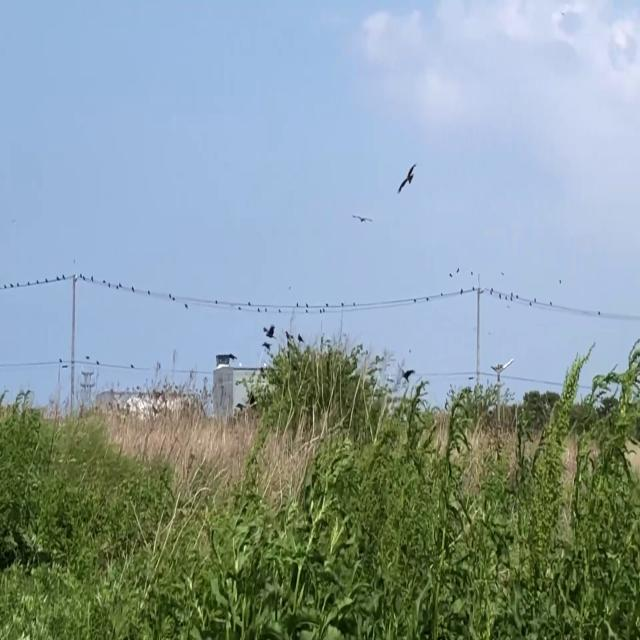bird: (398, 155, 416, 206), (354, 208, 370, 230), (402, 361, 413, 385), (264, 320, 275, 344), (170, 288, 175, 301)
